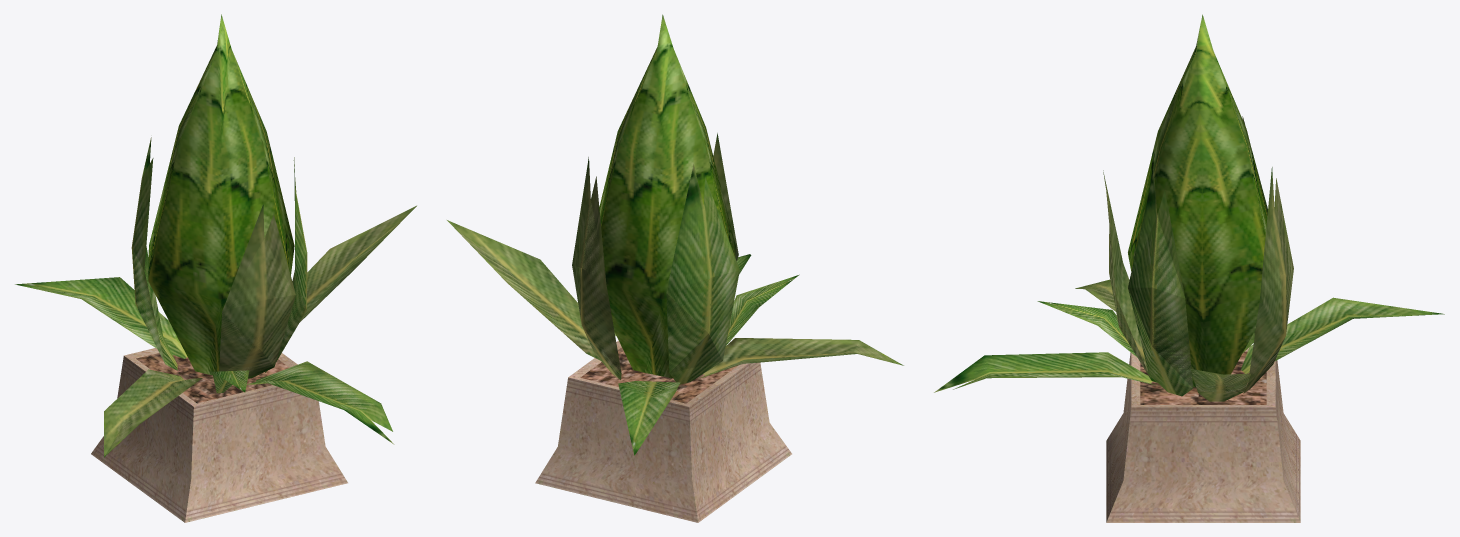
File: frn_all_plant_potted_lg_s1_l1.fbx
The picture shows the model from 3 angles, left to right: view 1: azimuth 30°, elevation 25°; view 2: azimuth 150°, elevation 25°; view 3: azimuth 270°, elevation 25°; orthographic projection. The views are drawn at different scales.
Visible parts, largest first — view 1: mesh_node; view 2: mesh_node; view 3: mesh_node.
Boxes of the visible parts, bbox=[...] form: mesh_node: bbox=[15, 14, 416, 522]; mesh_node: bbox=[447, 14, 903, 522]; mesh_node: bbox=[934, 14, 1444, 522].
Bounding box in the file's own units: 1.5 × 1.69 × 1.67.
